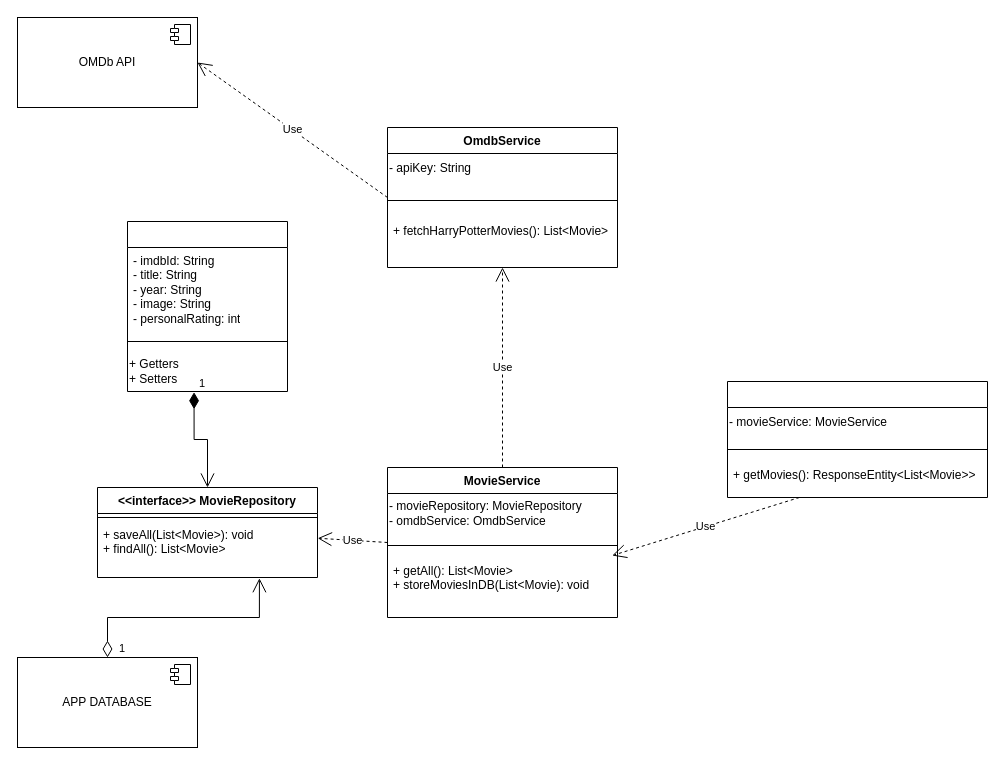
The diagram is 1005 pixels wide and 765 high, and some of its shapes have lost their labels. The box of each missing label's shape, as (x1, y1, x2, y2) in pixels:
Movie: (126, 220, 288, 392)
MovieController: (726, 380, 988, 498)
